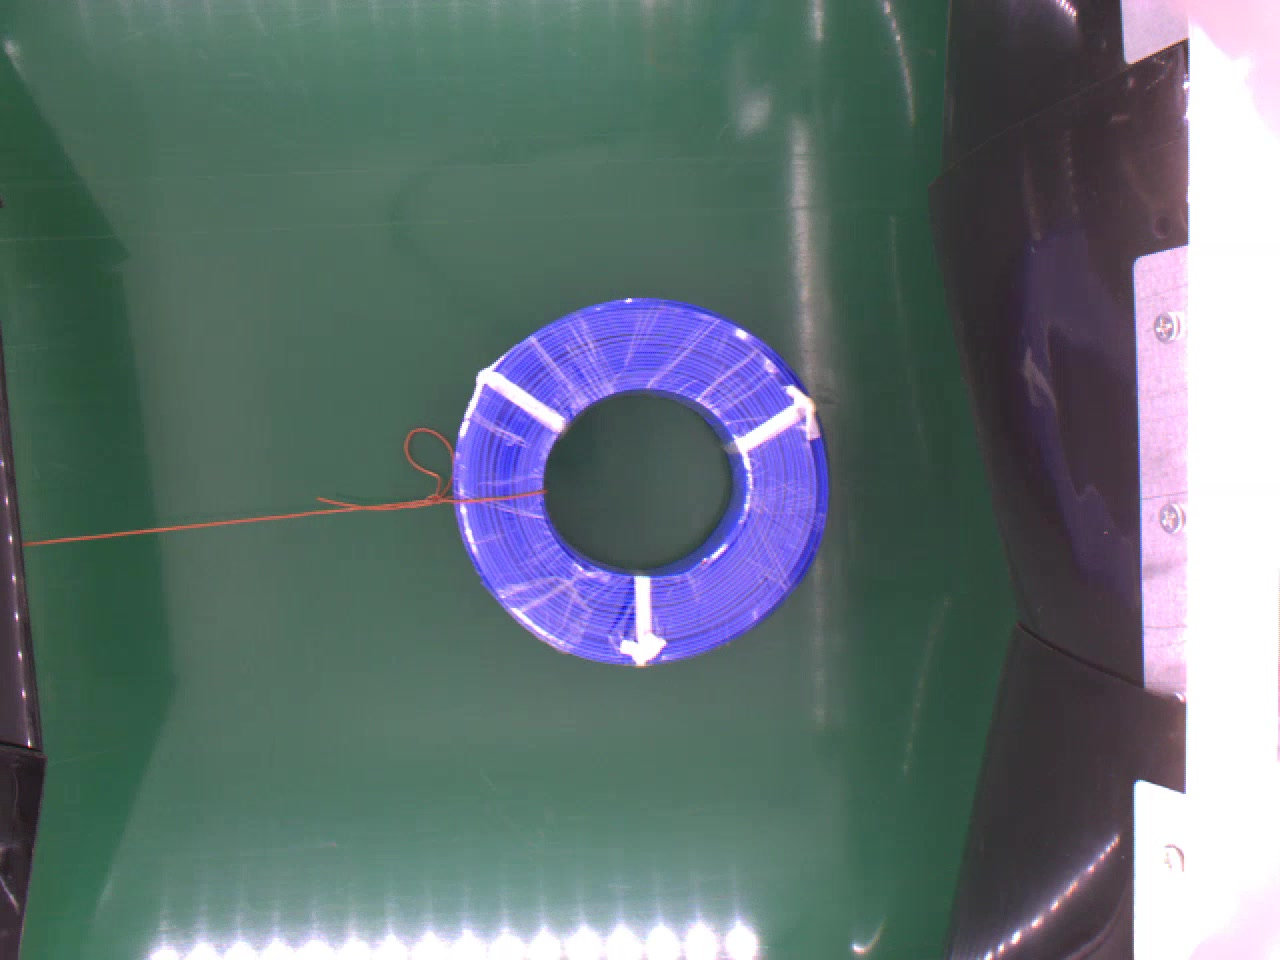blue: (444, 291, 840, 672)
